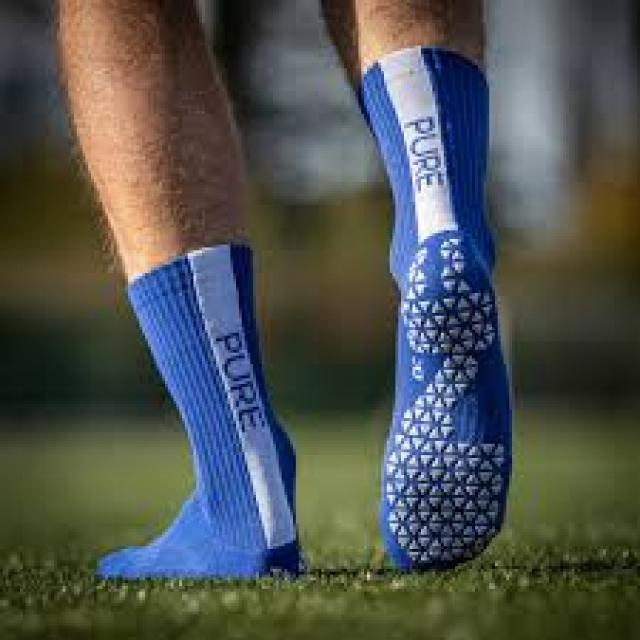sock: (356, 42, 512, 572), (94, 239, 304, 580)
